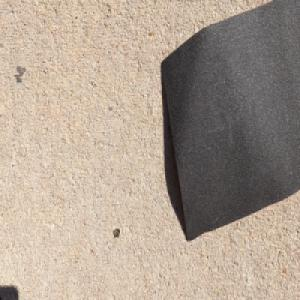PaintChip: (159, 0, 300, 244)
